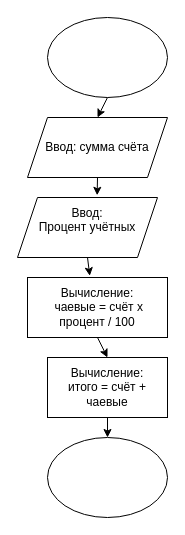
Some shapes in this 185 by 535 pixel diagram are drawn without their labels. Each missing label, with the box of its shape:
Конец: (46, 436, 168, 518)
Начало: (46, 16, 168, 98)
